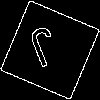J: (25, 25, 66, 78)
